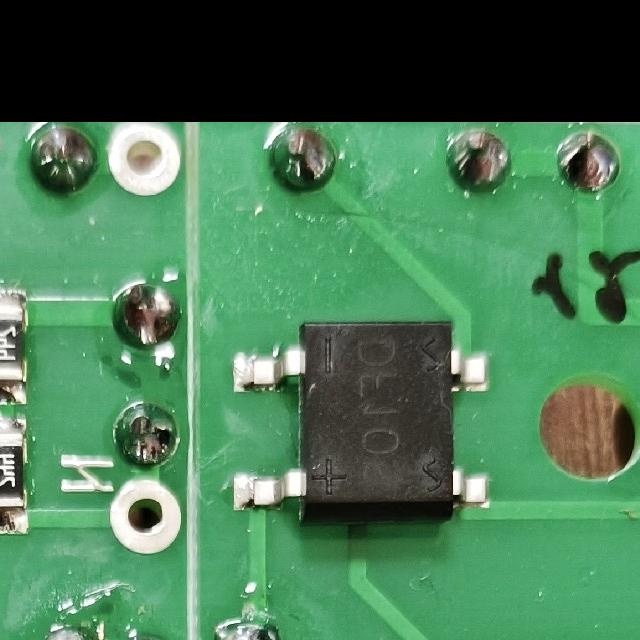chip-resistor: (0, 414, 30, 538), (0, 285, 29, 407)
ic: (224, 314, 493, 526)
